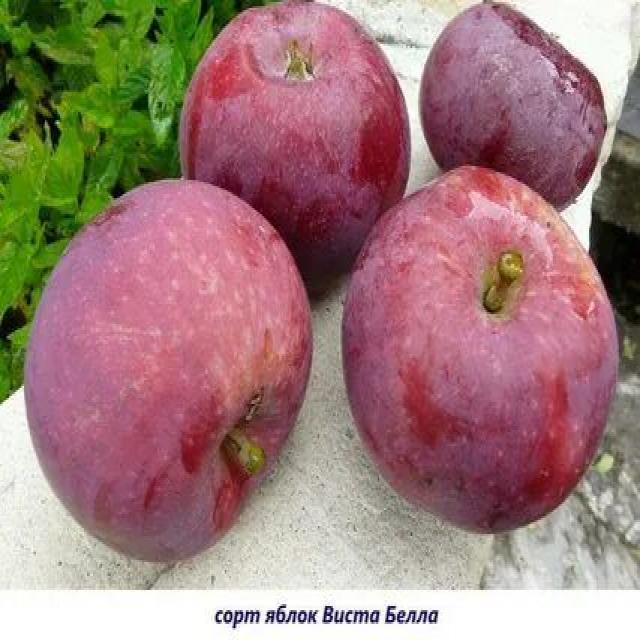Fresh Apple: (20, 173, 315, 567), (338, 163, 628, 535), (178, 0, 409, 258), (416, 0, 604, 186)
